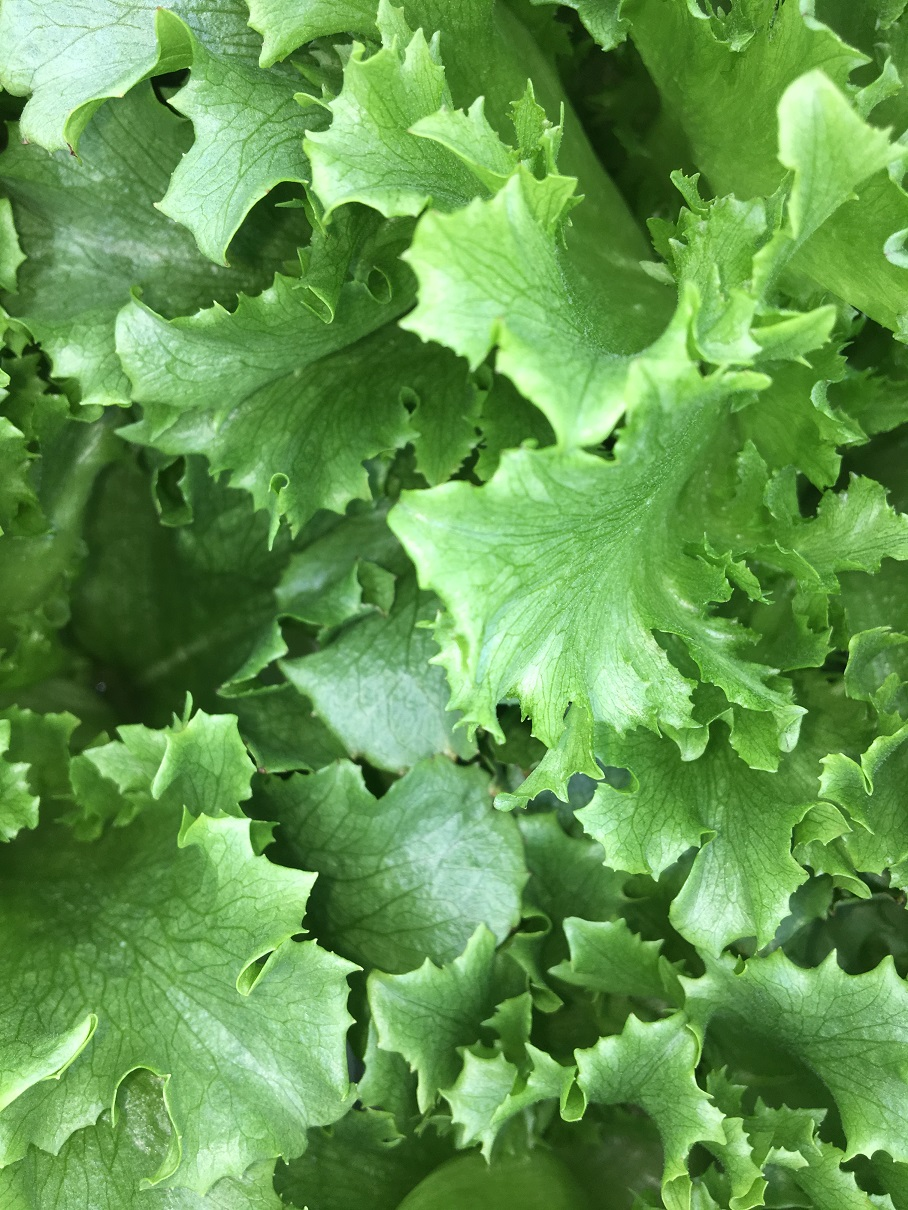tipburn: (246, 751, 284, 790), (52, 132, 88, 170), (480, 773, 519, 808), (8, 120, 44, 156), (430, 735, 465, 772), (206, 249, 241, 278), (255, 178, 280, 205), (145, 1, 173, 22)
